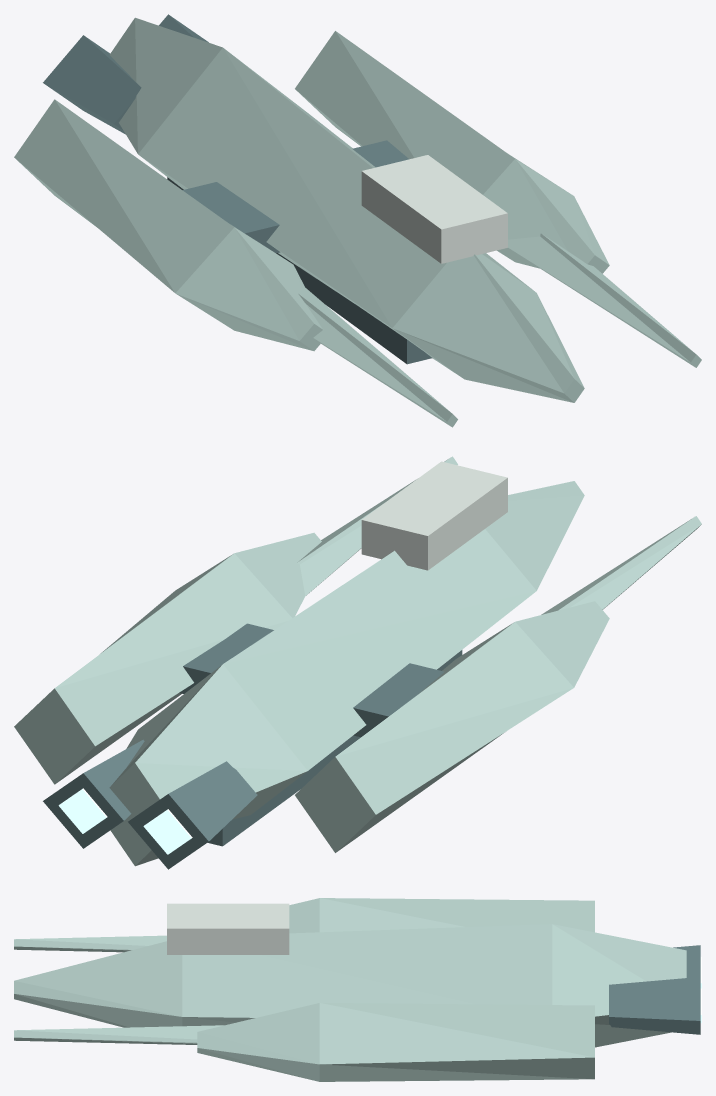
The picture shows the model from 3 angles, top to bottom: view 1: azimuth 30°, elevation 25°; view 2: azimuth 150°, elevation 25°; view 3: azimuth 270°, elevation 25°; orthographic projection. The views are drawn at different scales.
Size of the model in its own units: 2.4 by 1.05 by 4.68.
